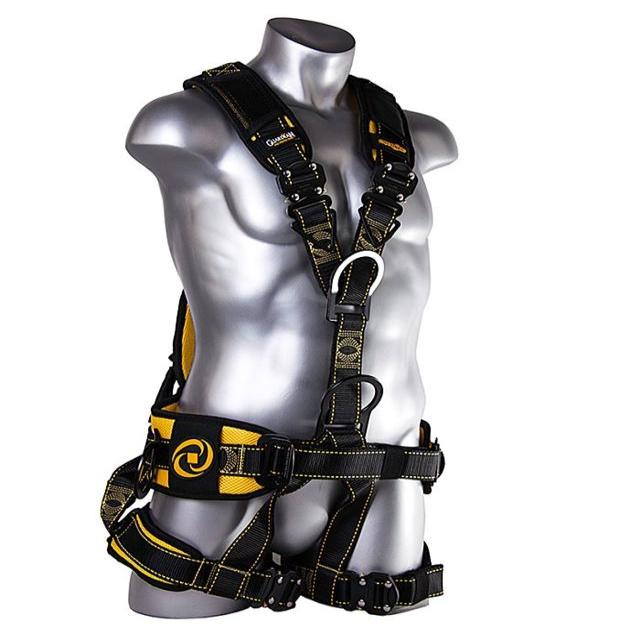Belt: (95, 65, 455, 612)
